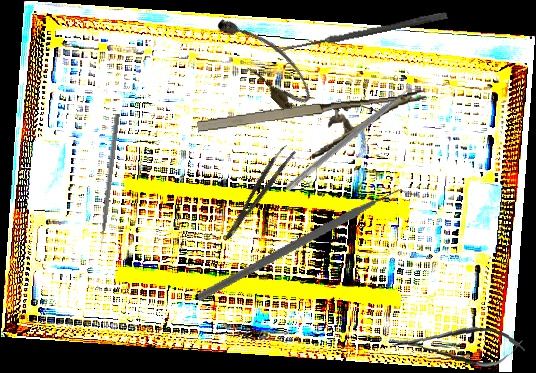Cannula: (209, 2, 320, 118)
Chopper: (195, 124, 420, 370)
Hook Surgical: (97, 113, 120, 251)
Micro Scissor: (390, 320, 527, 370)
Needle Holder: (196, 89, 431, 171)
Spatula Surgical: (284, 80, 421, 198)
Surgical Spoon: (273, 10, 448, 56)
Tissue Forceps: (217, 143, 297, 241)
